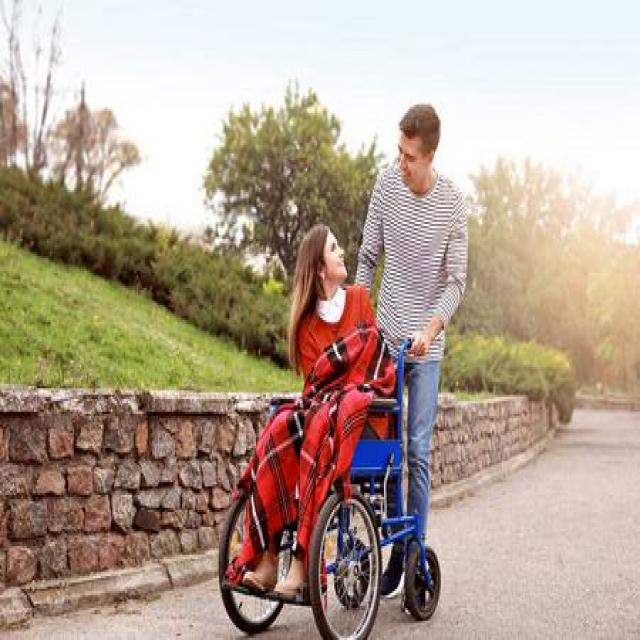wheelchairs: (211, 313, 442, 640)
